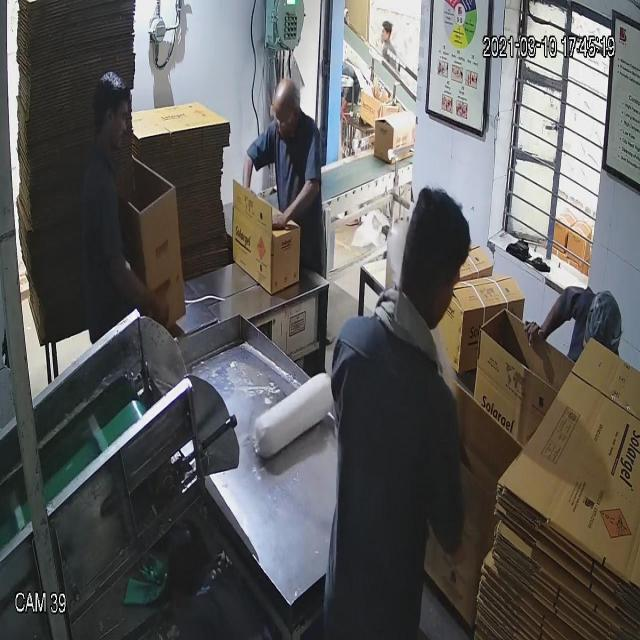No_Gloves: (19, 63, 557, 318)
